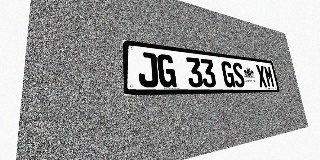3: (186, 57, 203, 87), (200, 58, 216, 87)
G: (157, 54, 177, 87), (221, 61, 236, 87)
J: (137, 51, 159, 87)
M: (263, 65, 275, 87)
S: (232, 62, 246, 87)
X: (255, 65, 268, 87)
